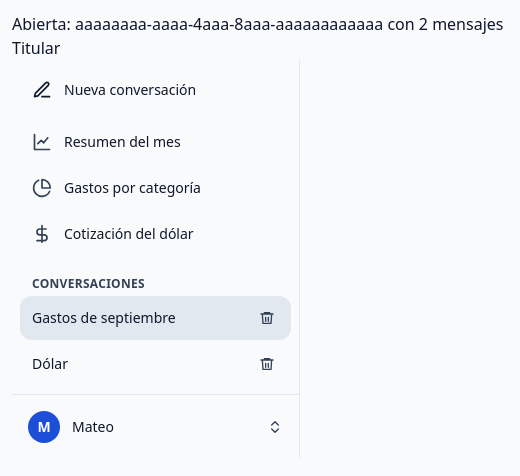
Scenario: cambiar de conversación sin recargar › «Nueva conversación» abre una vacía, con otra dirección, sin pedirle nada al servidor
Click the link "Nueva conversación": (114, 90) 32,80 -> 196,100
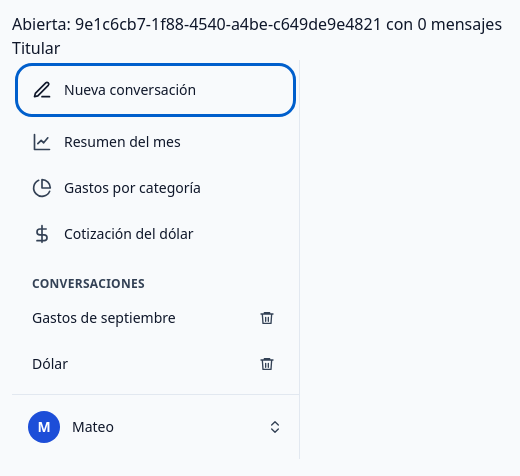
Expected: the text "Abierta:" no longer shows "aaaaaaaa-aaaa-4aaa-8aaa-aaaaaaaaaaaa"
